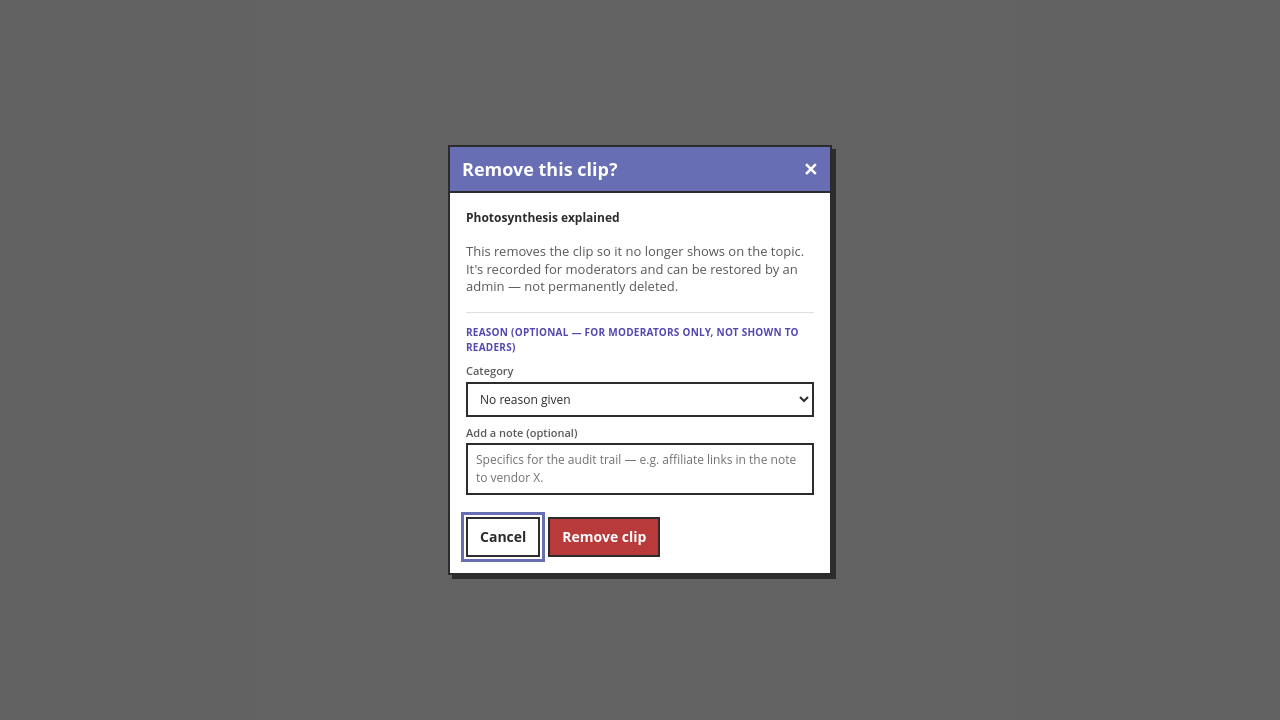
RemoveConfirmDialog — safety, soft copy, optional reason, states (§5) › on a generic error keeps the dialog open with a role=alert 'Couldn't remove' message; the clip is not removed
This screenshot has width=1280, height=720.
Click the button "Remove clip". click: (604, 537)
box: [548,517,660,557]
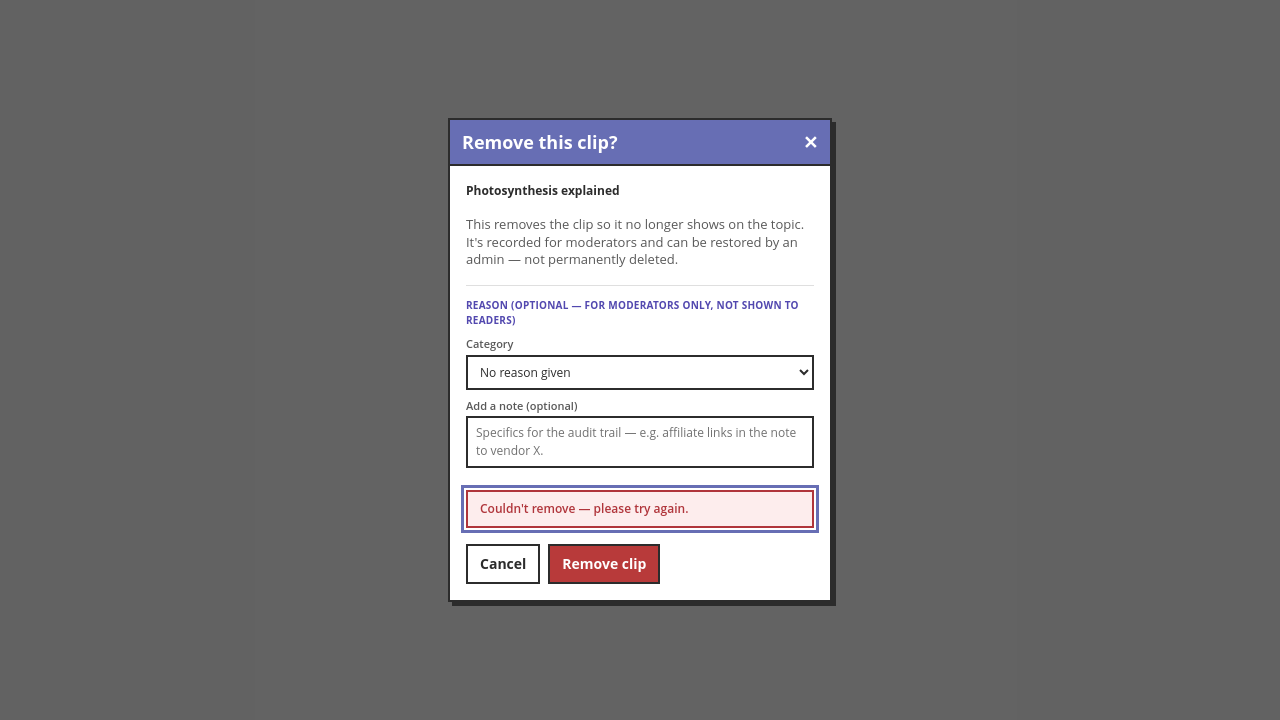
Check: the message shows "Couldn't remove", box [480,500,688,517]
